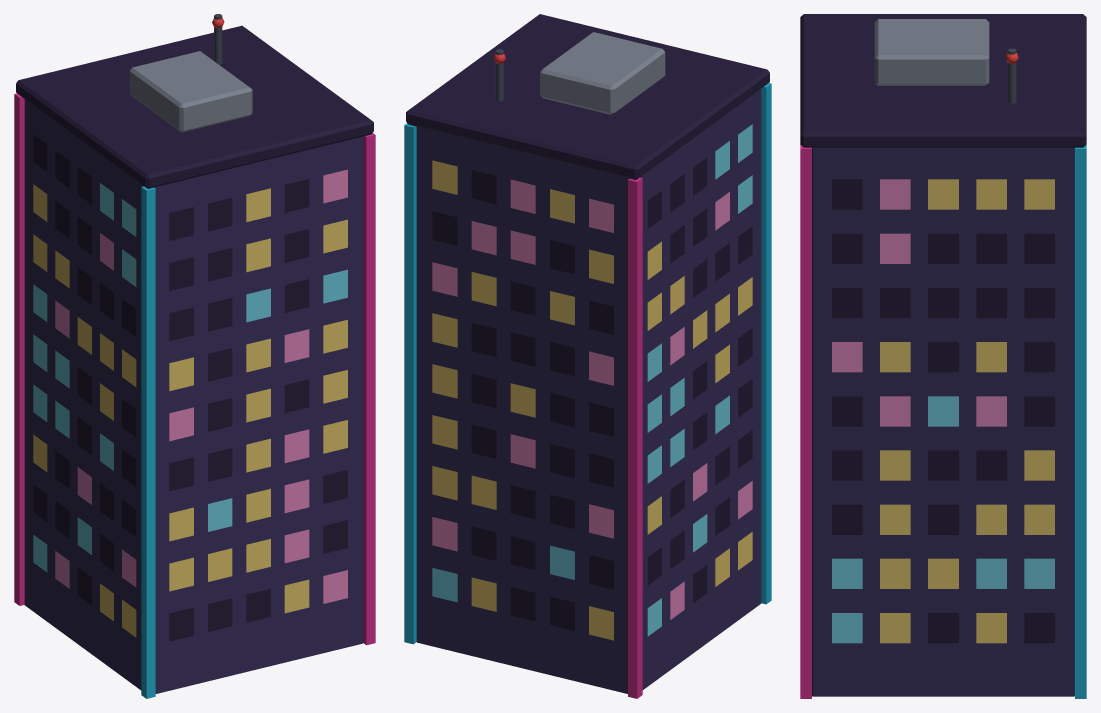
File: neon-deco1.glb
3 renders of one model, left to right at view 1: azimuth 30°, elevation 25°; view 2: azimuth 150°, elevation 25°; view 3: azimuth 270°, elevation 25°, orthographic. The views are drawn at different scales.
Visible parts, largest first — view 1: neon-deco1; view 2: neon-deco1; view 3: neon-deco1.
Boxes of the visible parts, <box> form: neon-deco1: <box>14,14,375,698</box>; neon-deco1: <box>404,14,771,698</box>; neon-deco1: <box>800,14,1086,698</box>.
Size of the model in its own units: 2.5 by 5.95 by 2.5.
